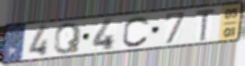4: (91, 17, 117, 52), (27, 23, 50, 59)
7: (164, 10, 187, 45)
C: (121, 15, 151, 48)
Q: (53, 21, 84, 56)
T: (194, 8, 217, 43)
